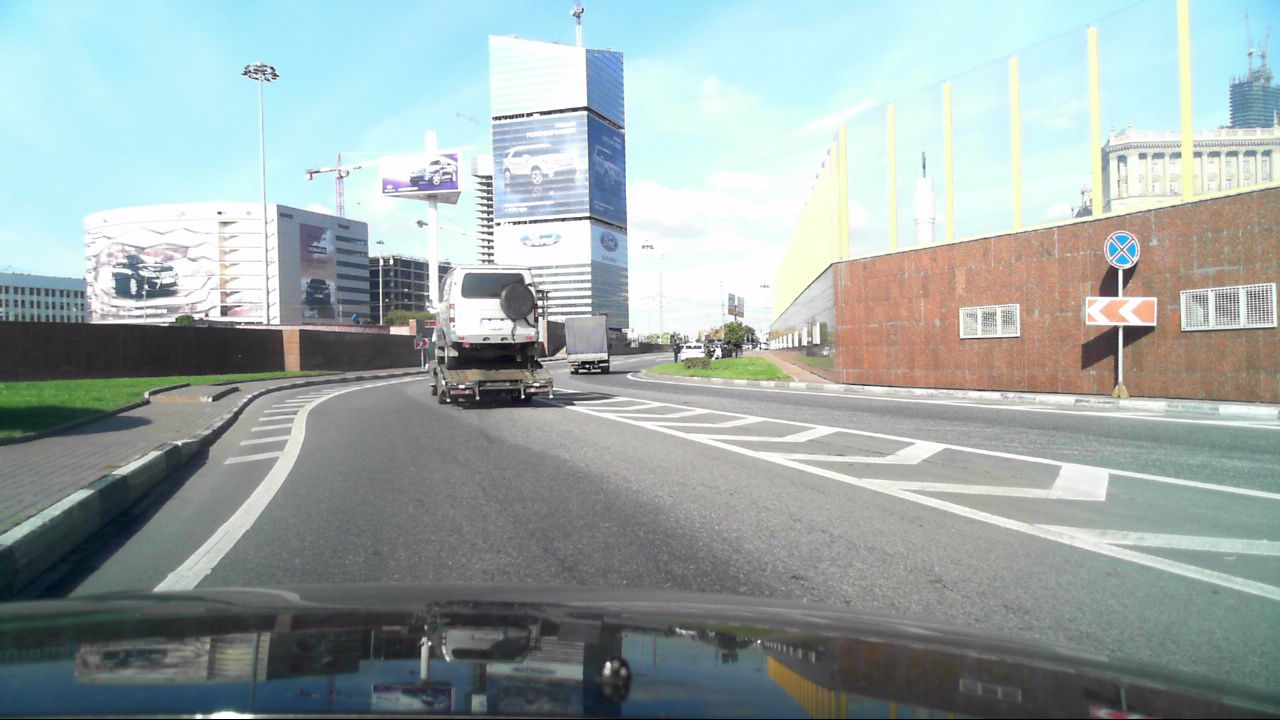No Parking: (1103, 230, 1141, 270)
